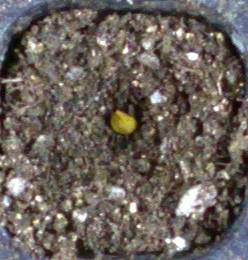pepper seed: (41, 40, 178, 177)
